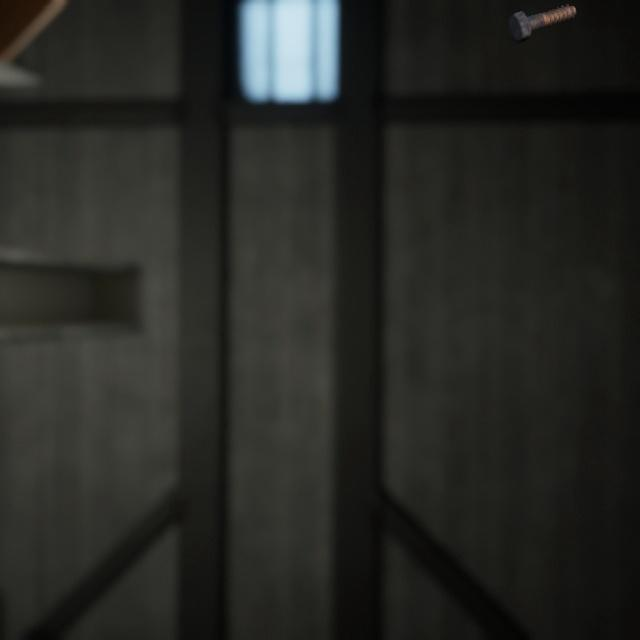bolt: (503, 0, 581, 39)
